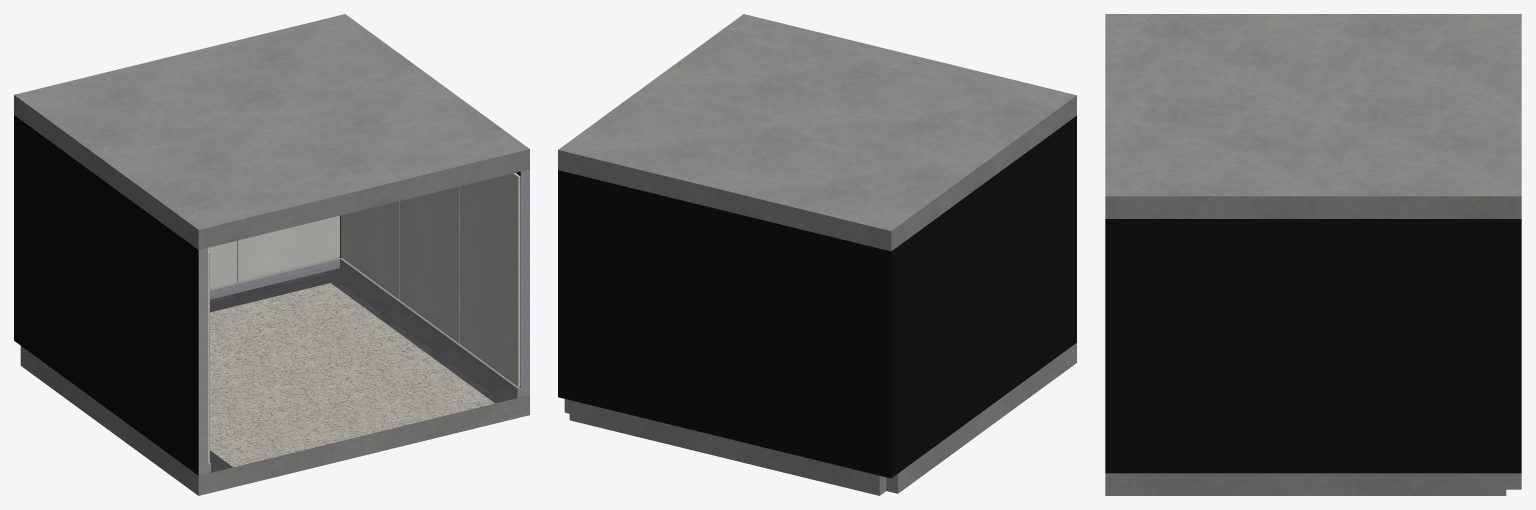
Rendered from gteki_passage_end_w4.glb.
3 views of the same model, side by side, from view 1: azimuth 30°, elevation 25°; view 2: azimuth 150°, elevation 25°; view 3: azimuth 270°, elevation 25° (orthographic). The views are drawn at different scales.
Visible parts, largest first — view 1: VIS_walls, VIS_ceiling, VIS_floor; view 2: VIS_walls, VIS_ceiling, VIS_floor; view 3: VIS_walls, VIS_ceiling, VIS_floor.
Boxes of the visible parts, x1,y1,x2,y2 form: VIS_walls: [14, 115, 529, 475]; VIS_ceiling: [14, 14, 529, 249]; VIS_floor: [20, 268, 529, 495]; VIS_walls: [558, 116, 1076, 478]; VIS_ceiling: [558, 14, 1076, 251]; VIS_floor: [564, 343, 1076, 495]; VIS_walls: [1105, 219, 1521, 473]; VIS_ceiling: [1105, 14, 1521, 218]; VIS_floor: [1105, 473, 1521, 495].
Size of what is drawn, in the model's own units: 4.3 by 3.3 by 4.15.
9 materials, 6 textured.
